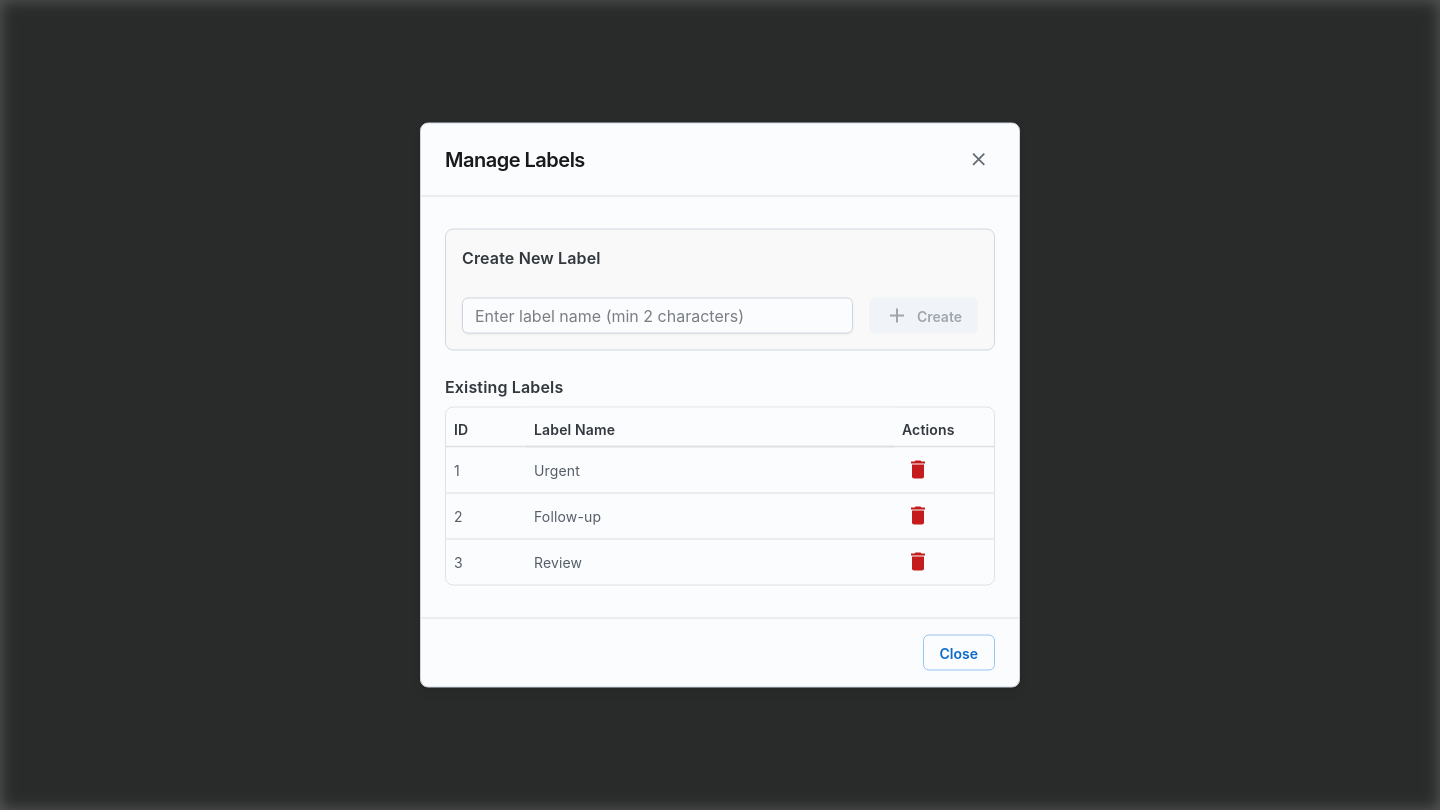
Test case: LabelManagerDialog - G-F4 Tests › Create Label › displays error when label name too short
Note: Set to valid length first to enable button
Step 1. Type "AB" into the field with placeholder "Enter label name (min 2 characters)" → (657, 316), box [475,298,840,332]
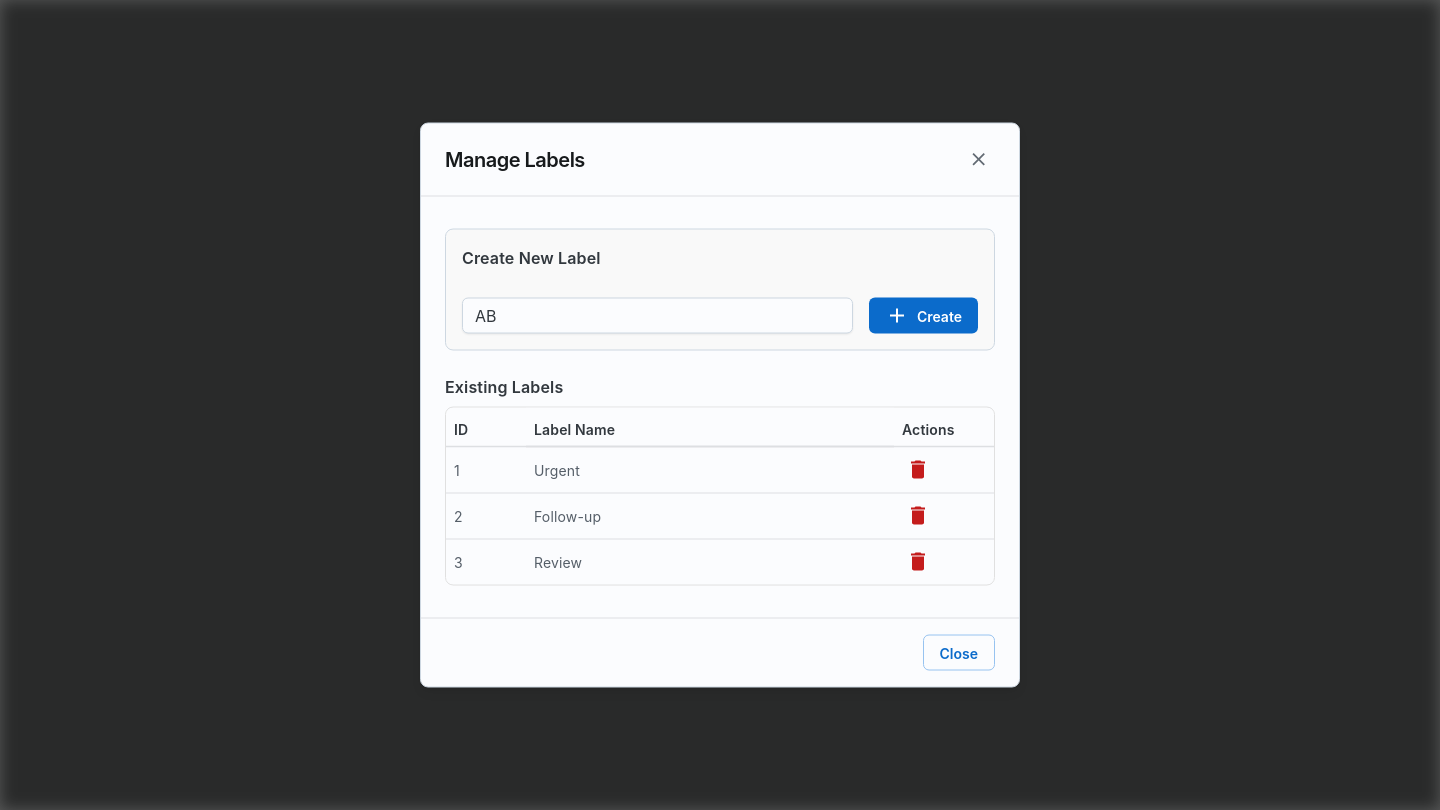
Now the button "Create" is enabled, box [869,298,978,334]
Note: Change to single char (will be trimmed)
Step 2. Replace the text in the field with placeholder "Enter label name (min 2 characters)" with "A " → (657, 316), box [475,298,840,332]
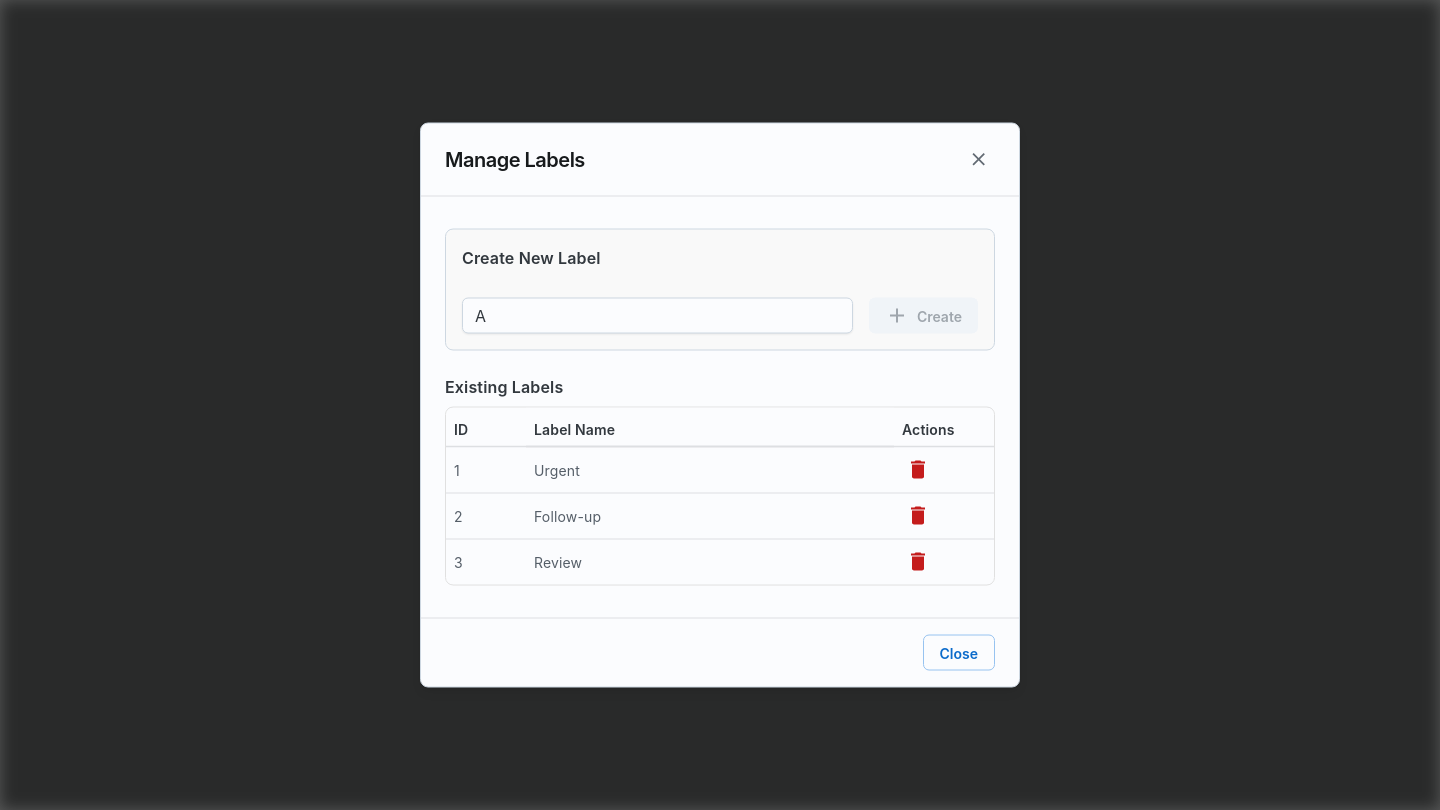
Now the button "Create" is disabled, box [869,298,978,334]
